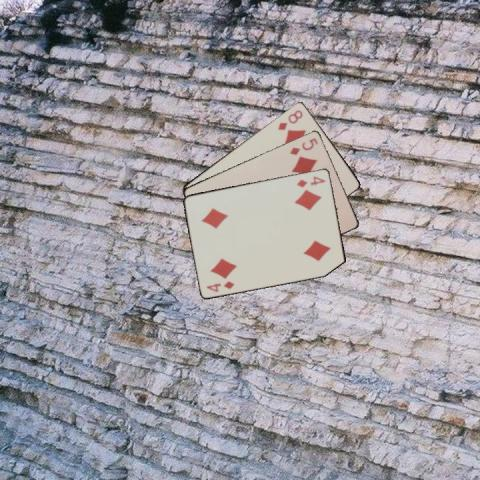4d: (294, 173, 327, 189), (203, 278, 236, 293)
5d: (287, 135, 319, 156)
8d: (275, 107, 304, 131)
